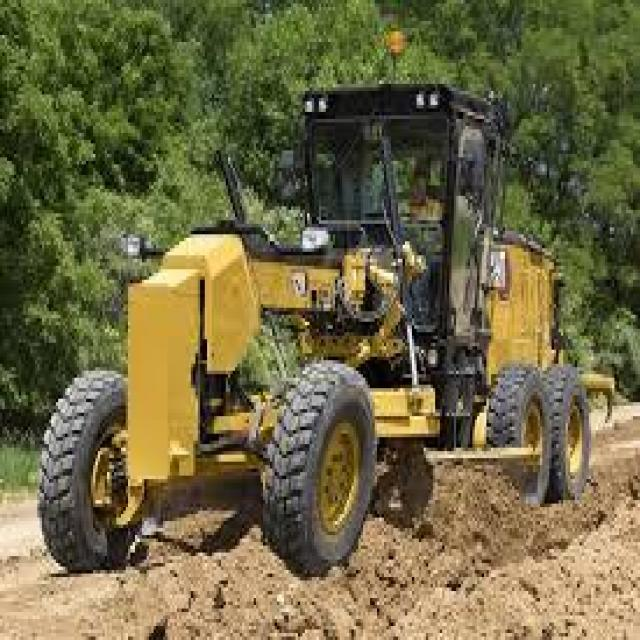Grader: (31, 39, 614, 588)
